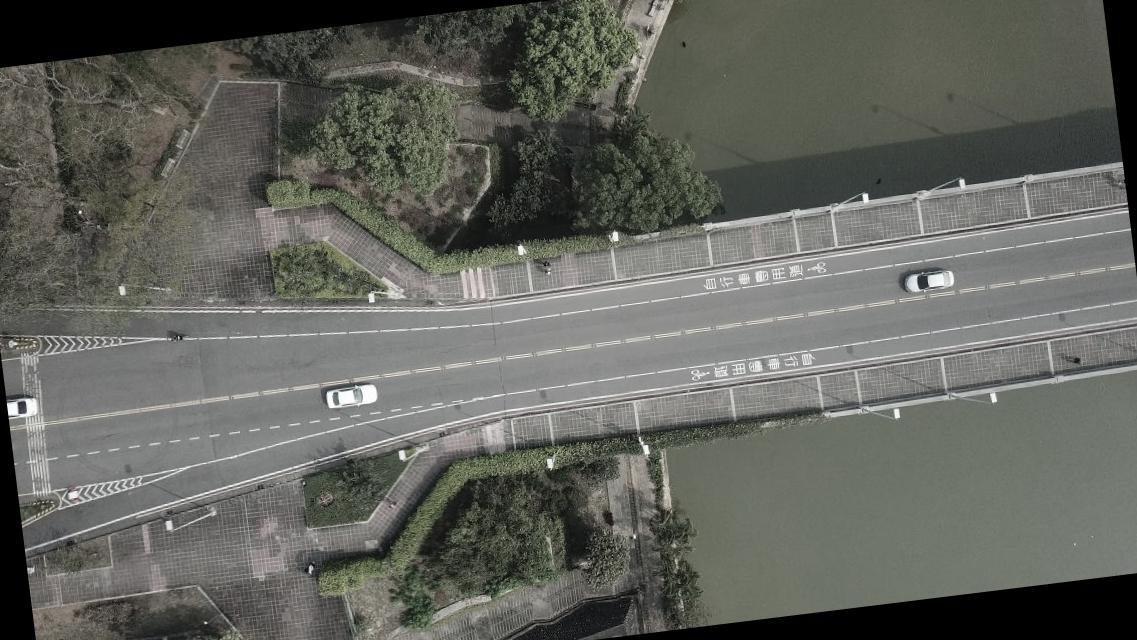vehicle: (323, 380, 378, 411), (902, 266, 953, 294), (6, 392, 39, 418)
